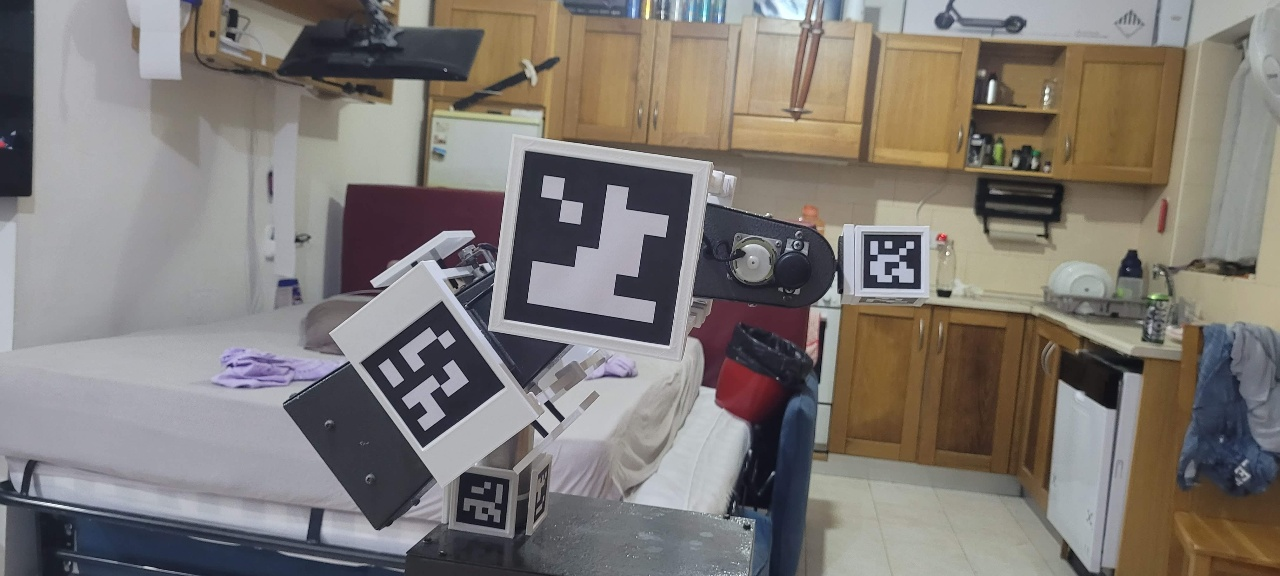Robot: (282, 132, 934, 540)
